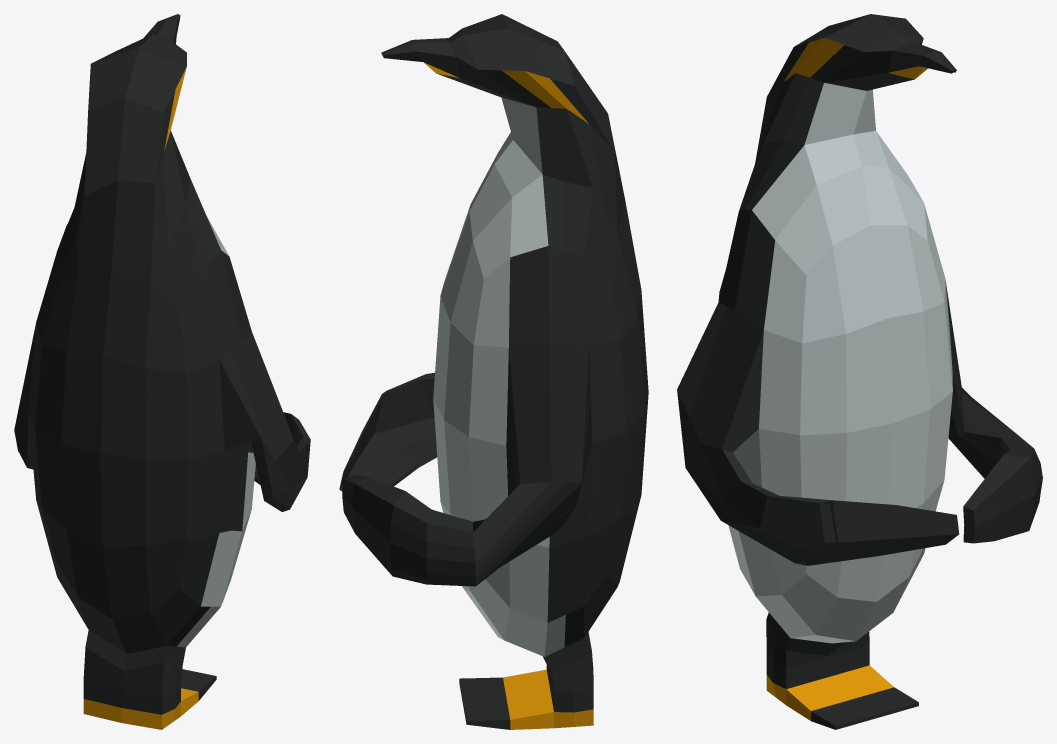
Rendered from penguin2.gltf.
The picture shows the model from 3 angles, left to right: view 1: azimuth 30°, elevation 25°; view 2: azimuth 150°, elevation 25°; view 3: azimuth 270°, elevation 25°; orthographic projection. The views are drawn at different scales.
Parts seen in each view (by area): view 1: Cube.001; view 2: Cube.001; view 3: Cube.001.
Part boxes in pixels (x1,y1,x2,y2): Cube.001: (14, 14, 310, 729); Cube.001: (339, 14, 648, 729); Cube.001: (677, 14, 1042, 729).
Bounding box in the file's own units: 0.7973 × 1.96 × 0.941.
